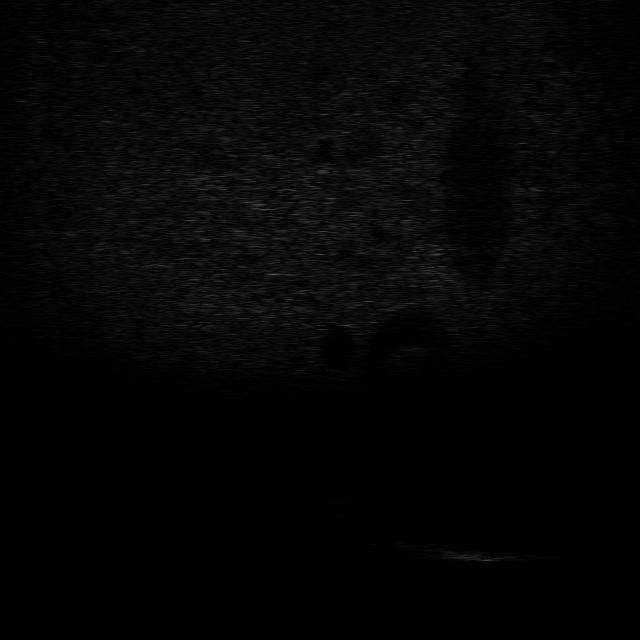ball: (315, 480, 363, 505)
metal bucket: (422, 541, 536, 568)
tyre: (371, 530, 450, 550)
